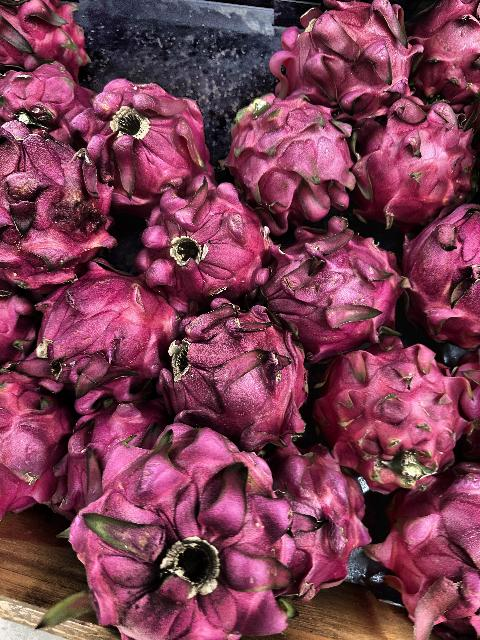buah-naga-matang: (75, 426, 299, 640), (319, 338, 465, 484), (163, 316, 319, 450), (0, 118, 116, 282), (376, 456, 480, 632), (23, 278, 170, 394), (72, 80, 212, 200), (135, 182, 273, 300), (265, 454, 375, 602), (226, 95, 356, 217), (273, 0, 411, 110), (349, 96, 477, 210), (281, 235, 403, 347), (392, 200, 480, 346), (60, 392, 172, 494), (0, 364, 68, 511), (406, 0, 480, 100), (1, 2, 92, 76), (0, 68, 86, 140), (0, 288, 42, 358)
